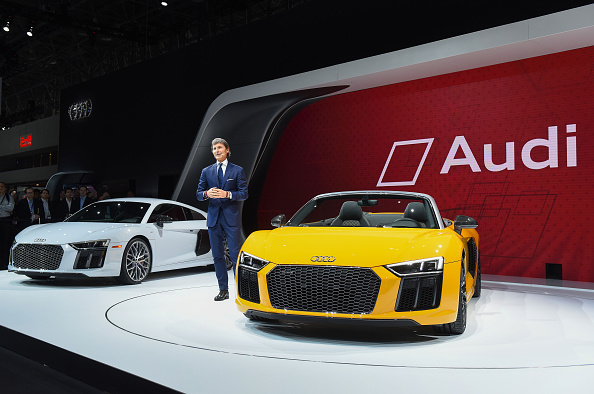em pe: (197, 130, 244, 294)
